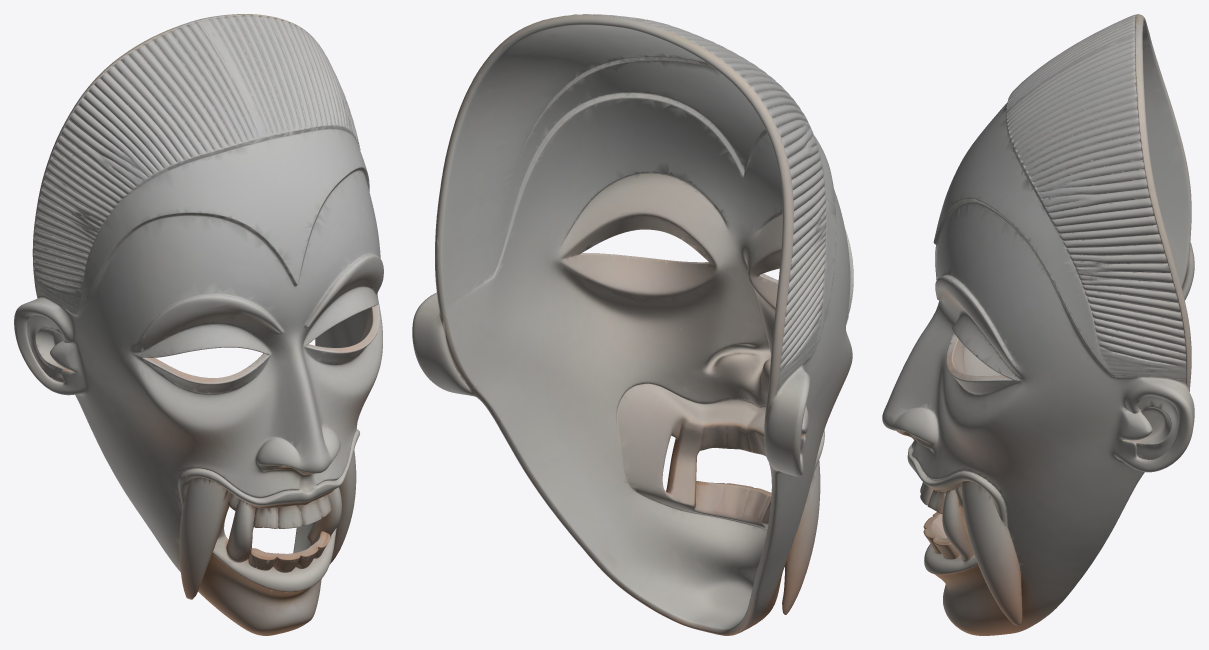
Rendered from fang2.glb.
The picture shows the model from 3 angles, left to right: view 1: azimuth 30°, elevation 25°; view 2: azimuth 150°, elevation 25°; view 3: azimuth 270°, elevation 25°; orthographic projection. The views are drawn at different scales.
Parts seen in each view (by area): view 1: material; view 2: material; view 3: material.
Boxes of the visible parts, left/top/right/bottom form: material: left=14, top=14, right=383, bottom=635; material: left=412, top=14, right=853, bottom=635; material: left=882, top=14, right=1194, bottom=635.
Bounding box in the file's own units: 0.7018 × 1.15 × 0.5472.
1 material, 1 textured.
